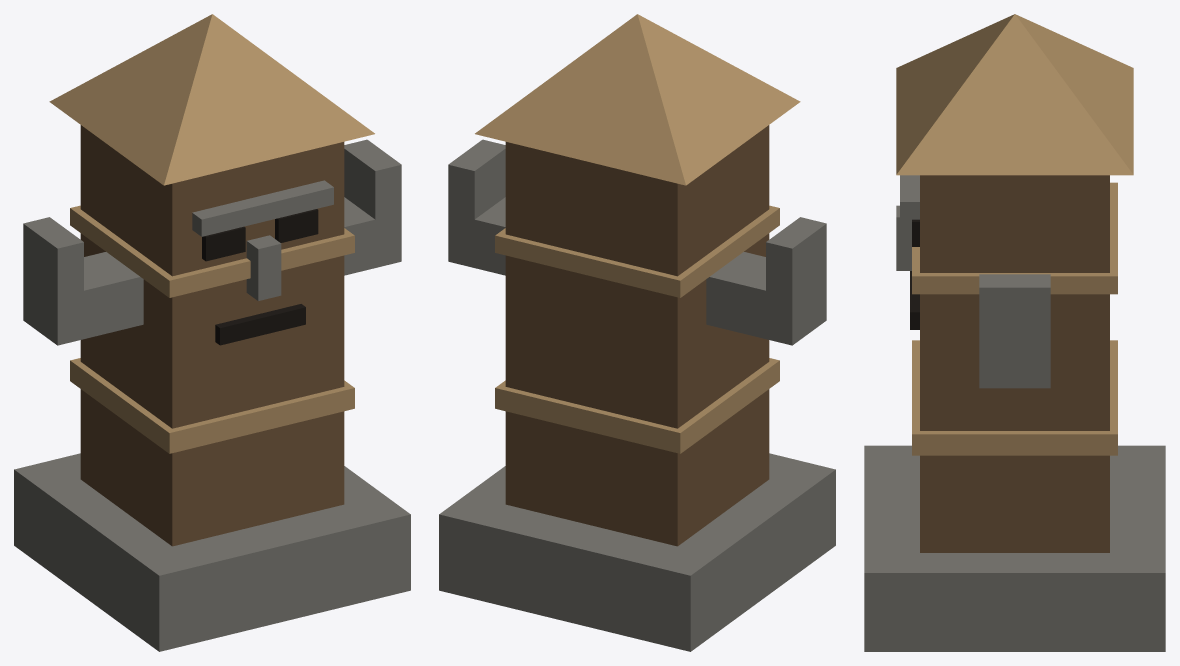
The model's file is earth_totem.glb.
3 views of the same model, side by side, from view 1: azimuth 30°, elevation 25°; view 2: azimuth 150°, elevation 25°; view 3: azimuth 270°, elevation 25° (orthographic). The views are drawn at different scales.
Parts seen in each view (by area): view 1: earth_totem; view 2: earth_totem; view 3: earth_totem.
Part boxes in pixels (left/top/right/bottom): earth_totem: left=14, top=14, right=410, bottom=651; earth_totem: left=439, top=14, right=835, bottom=651; earth_totem: left=864, top=14, right=1165, bottom=651.
Size of the model in its own units: 1.04 by 1.6 by 0.76.
1 material, 1 textured.
